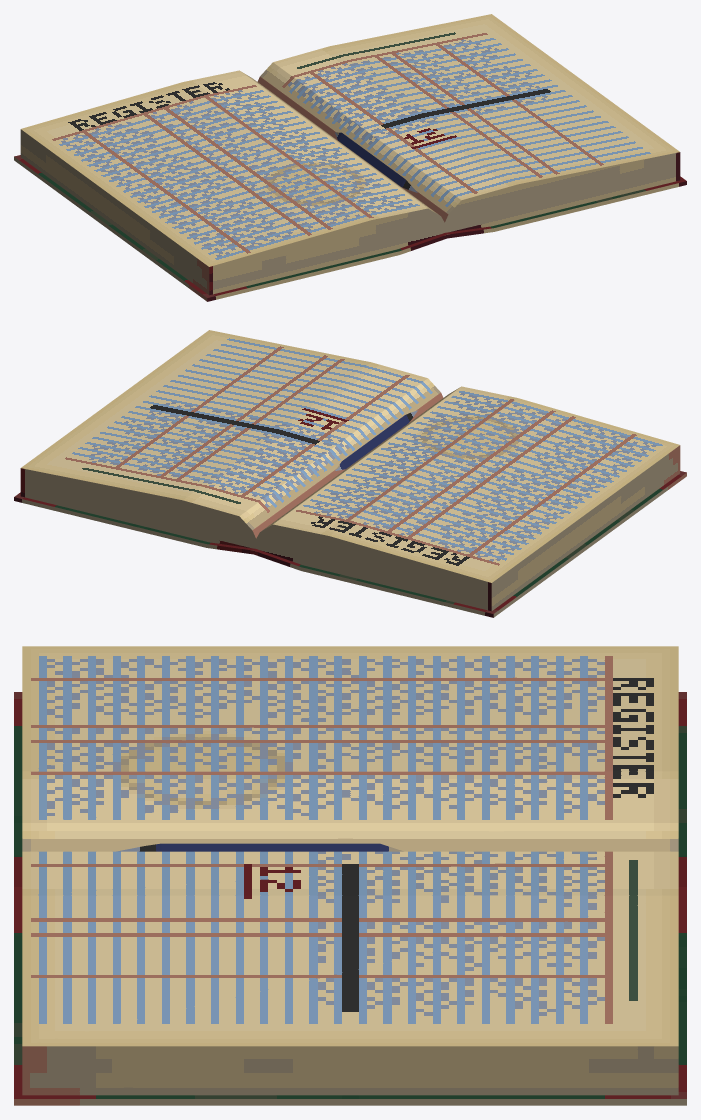
Rendered from SM_Motel_GuestRegister.glb.
The picture shows the model from 3 angles, top to bottom: view 1: azimuth 30°, elevation 25°; view 2: azimuth 150°, elevation 25°; view 3: azimuth 270°, elevation 25°; orthographic projection. The views are drawn at different scales.
Visible parts, largest first — view 1: SM_Motel_GuestRegister; view 2: SM_Motel_GuestRegister; view 3: SM_Motel_GuestRegister.
Boxes of the visible parts, bbox=[...] form: SM_Motel_GuestRegister: bbox=[14, 14, 686, 301]; SM_Motel_GuestRegister: bbox=[14, 330, 686, 617]; SM_Motel_GuestRegister: bbox=[14, 646, 686, 1105].
Size of what is drawn, in the model's own units: 0.458 by 0.036 by 0.32.
1 material, 1 textured.
